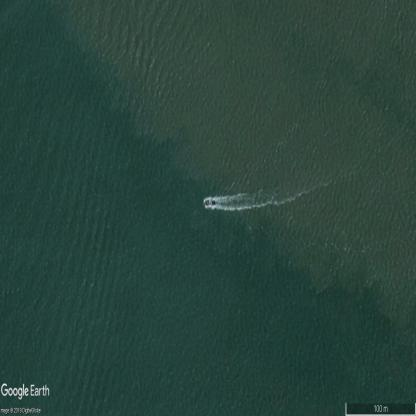ship: (205, 198, 215, 206)
